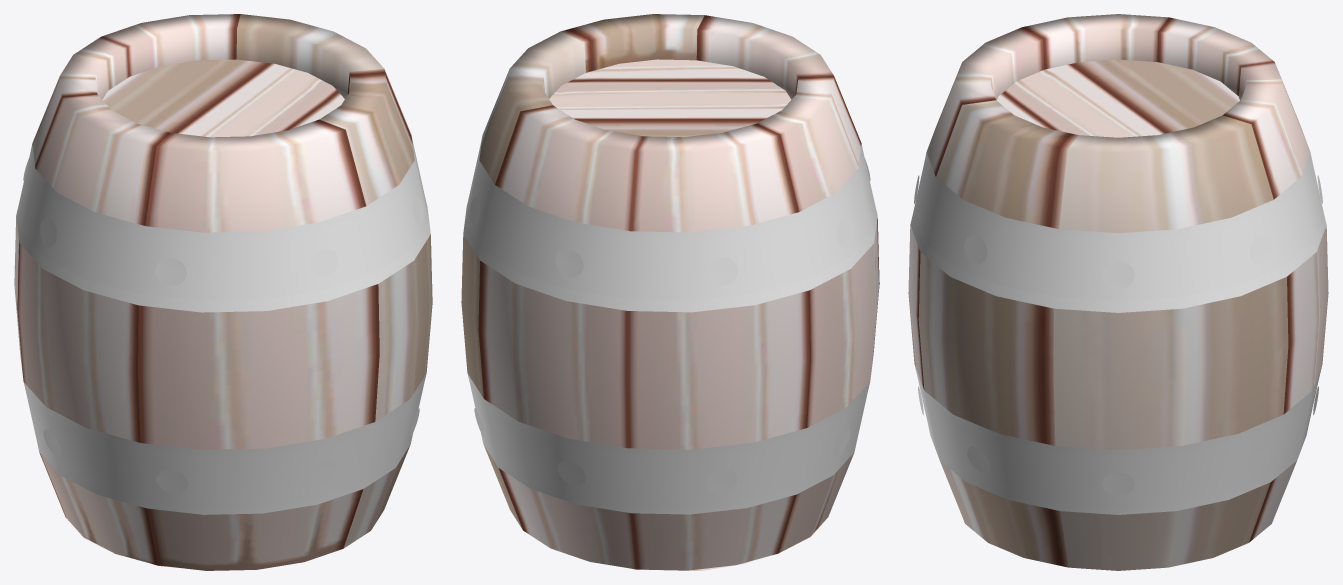
The model's file is IslandTreasureBarrel1.fbx.
3 views of the same model, side by side, from view 1: azimuth 30°, elevation 25°; view 2: azimuth 150°, elevation 25°; view 3: azimuth 270°, elevation 25° (orthographic).
Visible parts, largest first — view 1: Barrel; view 2: Barrel; view 3: Barrel.
Part boxes in pixels (x1,y1,x2,y2): Barrel: (14,14,432,570); Barrel: (461,14,879,570); Barrel: (908,14,1328,570).
Size of what is drawn, in the model's own units: 0.762 by 0.8404 by 0.762.
